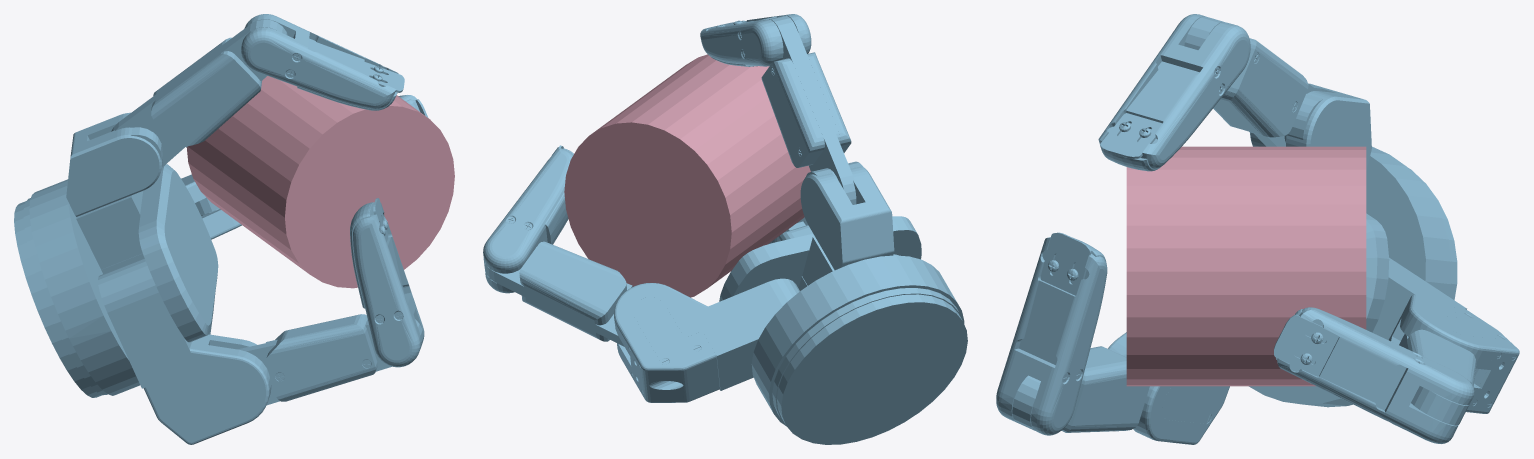
3 renders of one model, left to right at view 1: azimuth 30°, elevation 25°; view 2: azimuth 150°, elevation 25°; view 3: azimuth 270°, elevation 25°, orthographic. The views are drawn at different scales.
Parts seen in each view (by area): view 1: world; view 2: world; view 3: world.
Boxes of the visible parts, left/top/right/bottom form: world: left=14, top=14, right=454, bottom=444; world: left=483, top=14, right=967, bottom=444; world: left=996, top=14, right=1519, bottom=444.
Bounding box in the file's own units: 0.1962 × 0.1721 × 0.1746.
